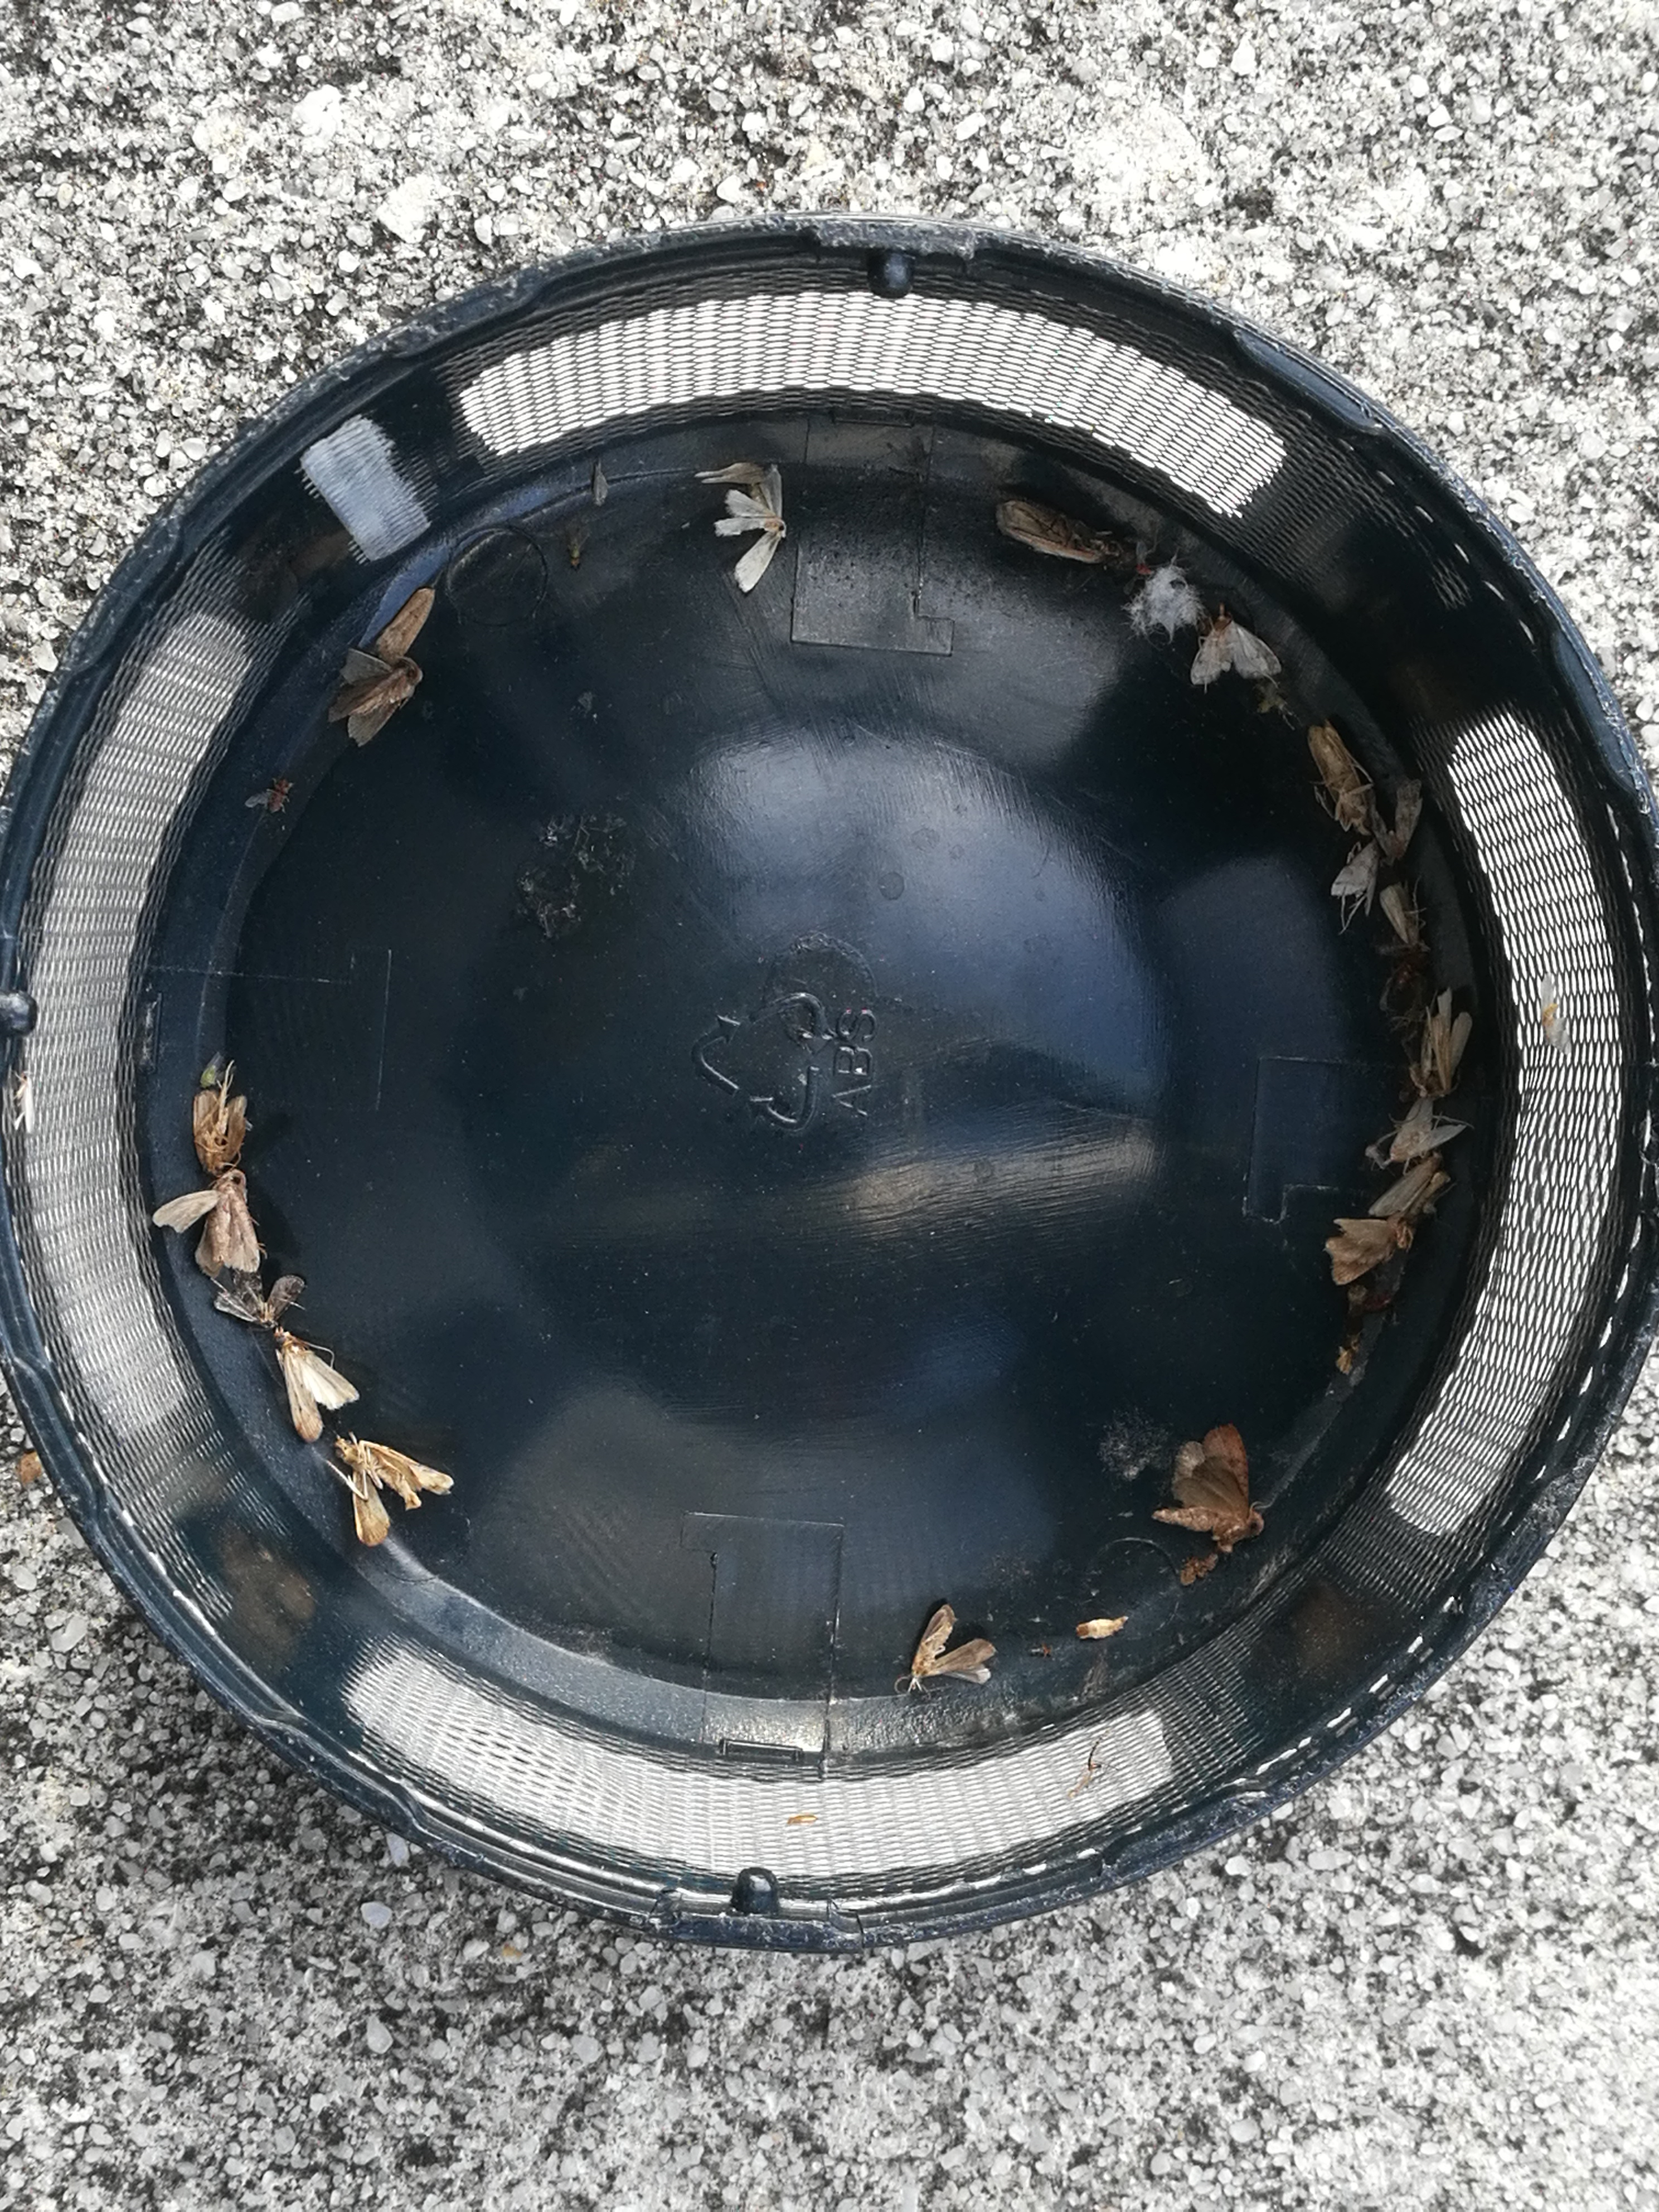mosquito: (1307, 723, 1364, 827), (1370, 1150, 1443, 1216)
moth: (333, 1440, 455, 1547), (1152, 1426, 1265, 1538), (155, 1172, 256, 1277), (324, 650, 422, 749), (274, 1327, 359, 1440), (714, 469, 784, 592), (999, 502, 1119, 561), (910, 1602, 995, 1684), (1192, 613, 1281, 683), (1326, 1216, 1415, 1284), (1420, 988, 1473, 1097), (1387, 1094, 1467, 1160), (214, 1275, 305, 1327), (192, 1092, 244, 1170), (1333, 838, 1378, 913), (1380, 883, 1417, 946)
